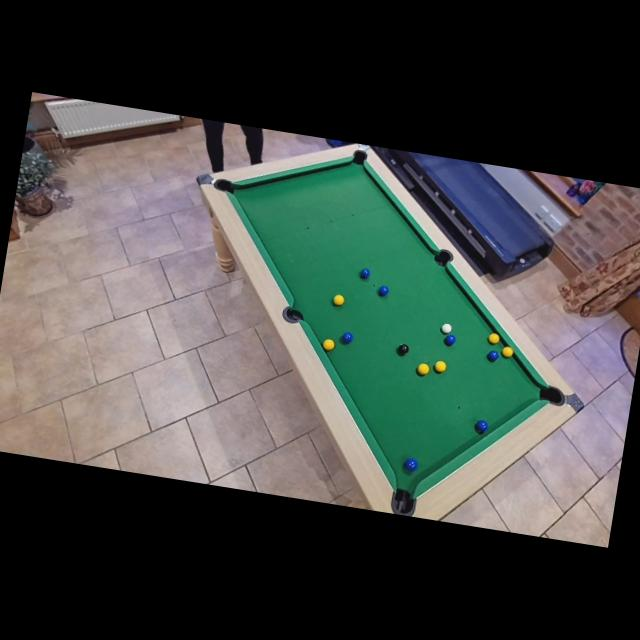Ball: (405, 458, 418, 472), (474, 419, 488, 432), (488, 332, 501, 345), (487, 350, 500, 363), (340, 332, 353, 345), (397, 343, 410, 356), (322, 338, 334, 351), (502, 346, 514, 358), (418, 364, 430, 376), (434, 360, 446, 372), (332, 294, 344, 306), (444, 334, 456, 346), (377, 286, 389, 298), (359, 268, 371, 280), (440, 323, 452, 335)
